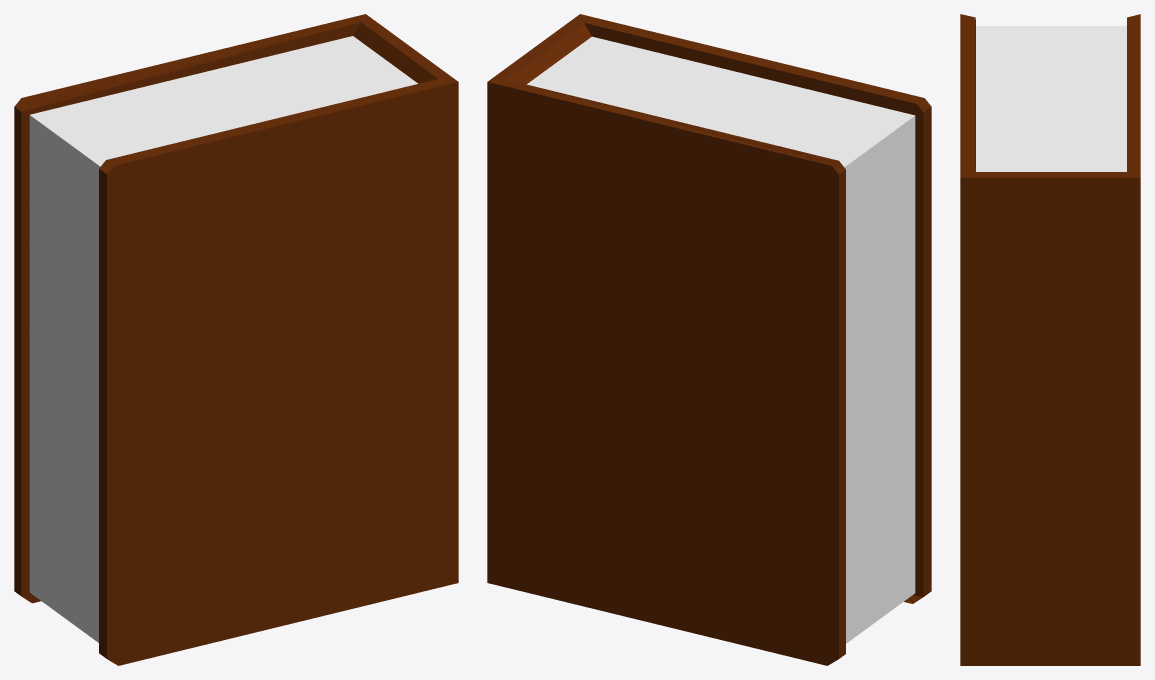
The model's file is book01.obj.
The picture shows the model from 3 angles, left to right: view 1: azimuth 30°, elevation 25°; view 2: azimuth 150°, elevation 25°; view 3: azimuth 270°, elevation 25°; orthographic projection. The views are drawn at different scales.
Visible parts, largest first — view 1: Cube.001_Cube.004; view 2: Cube.001_Cube.004; view 3: Cube.001_Cube.004.
Part boxes in pixels (x1,y1,x2,y2): Cube.001_Cube.004: (14,14,458,665); Cube.001_Cube.004: (487,14,931,665); Cube.001_Cube.004: (960,14,1140,665).
Bounding box in the file's own units: 0.1678 × 0.2286 × 0.0766.
